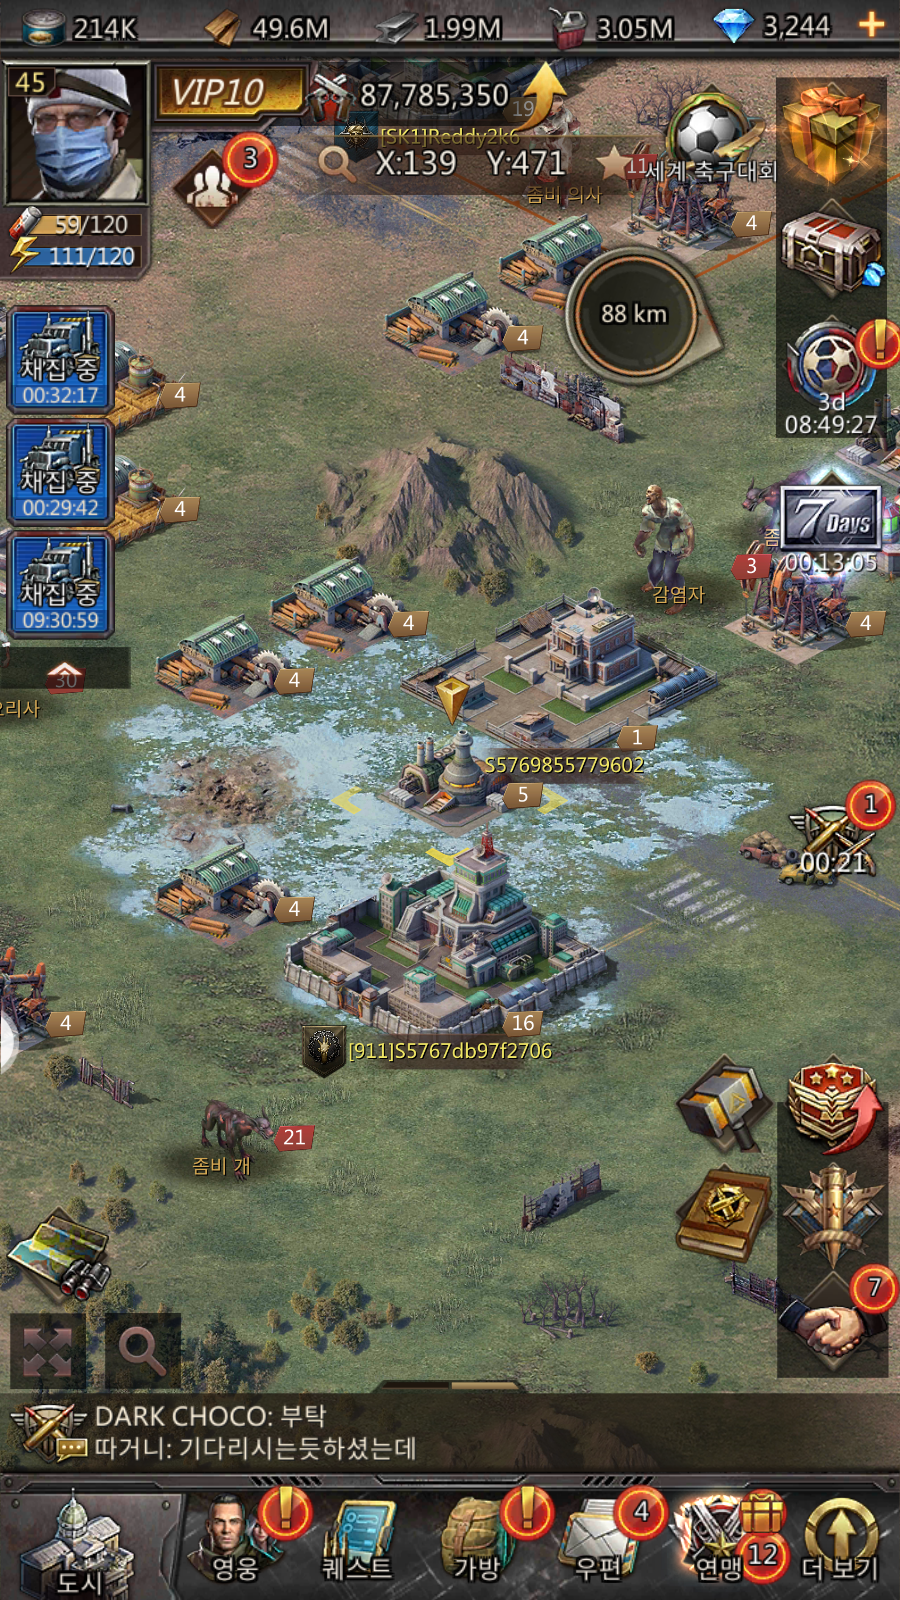city: (13, 1491, 171, 1600)
empty_steel: (313, 664, 596, 882)
open_panel: (102, 1302, 187, 1391)
troops_cnt_3: (162, 122, 289, 245)
